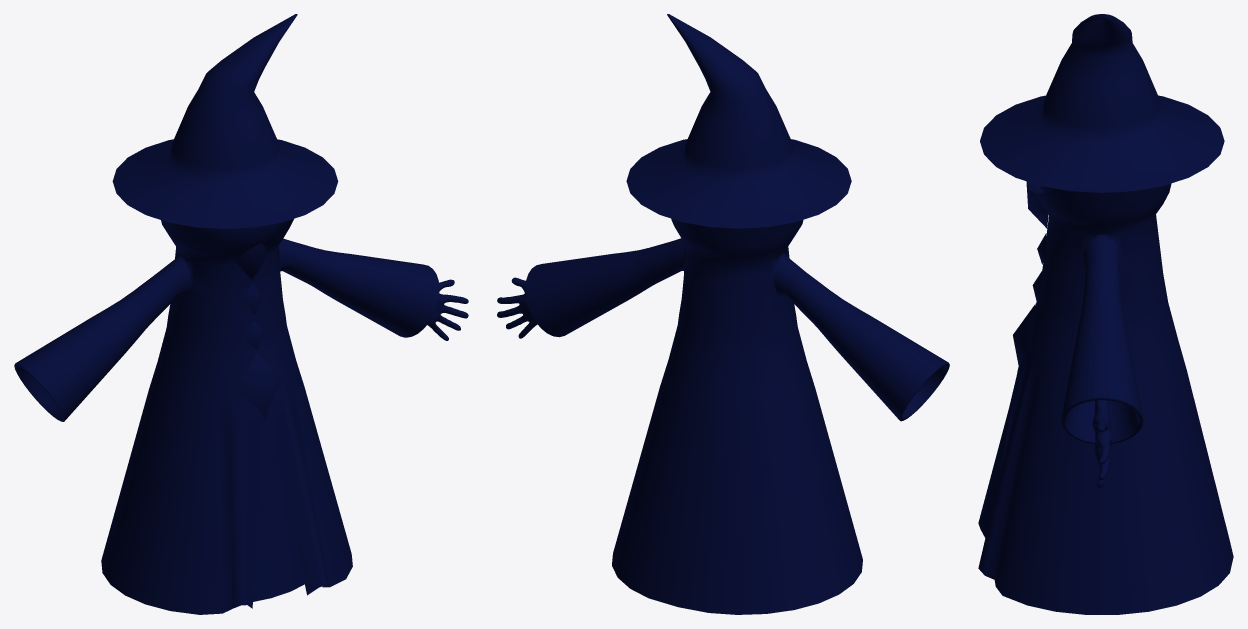
Rendered from colourID.fbx.
3 views of the same model, side by side, from view 1: azimuth 30°, elevation 25°; view 2: azimuth 150°, elevation 25°; view 3: azimuth 270°, elevation 25° (orthographic). The views are drawn at different scales.
Visible parts, largest first — view 1: pasted__pasted__pCube4; view 2: pasted__pasted__pCube4; view 3: pasted__pasted__pCube4.
Boxes of the visible parts, left/top/right/bottom form: pasted__pasted__pCube4: left=14, top=14, right=468, bottom=614; pasted__pasted__pCube4: left=497, top=14, right=949, bottom=614; pasted__pasted__pCube4: left=978, top=14, right=1233, bottom=614.
Size of the model in its own units: 693 by 793 by 317.
